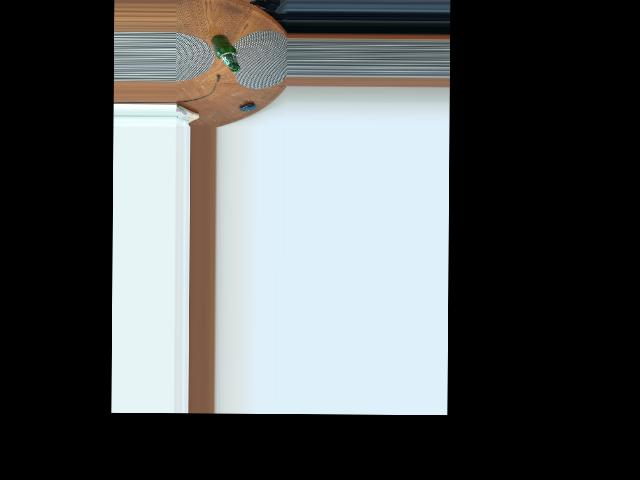beer: (209, 34, 240, 71)
